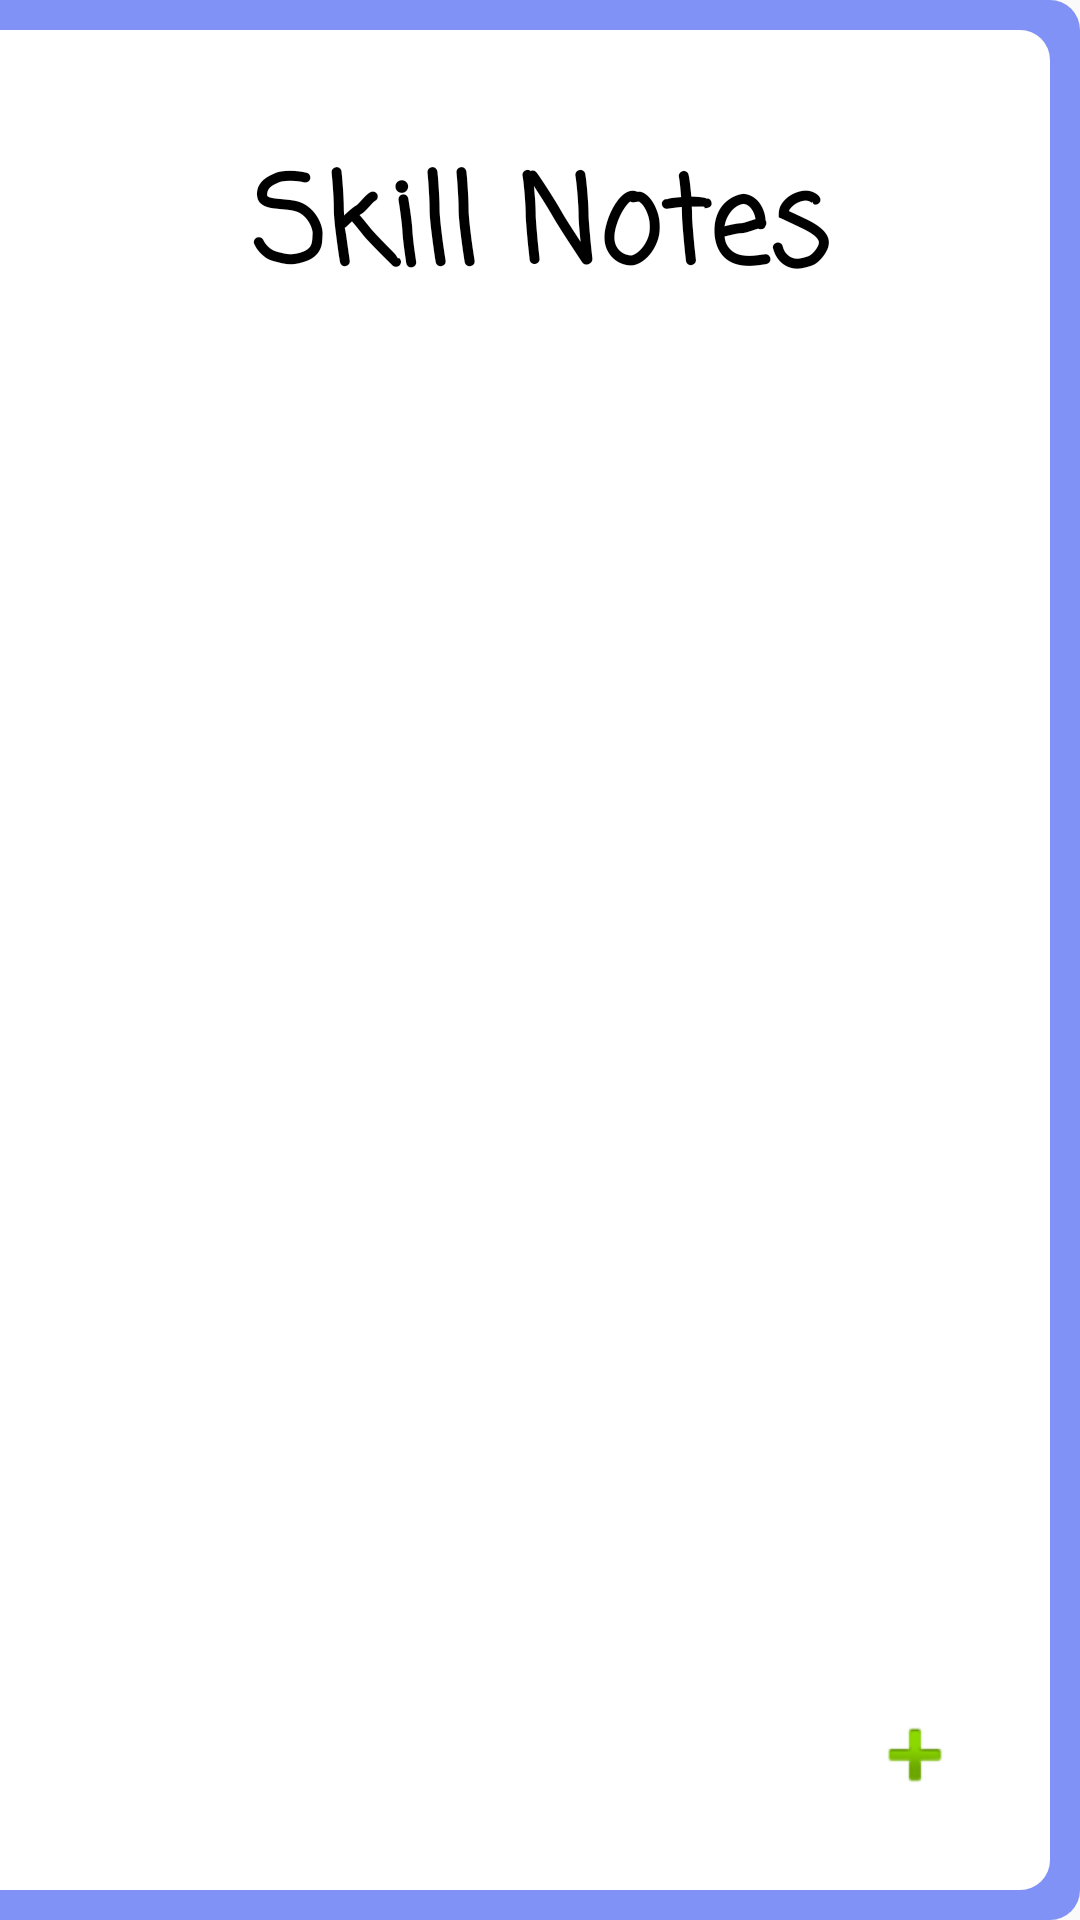

Icons on this 1080x1920 Android screen, each with its box as {"x1": x1, "y1": y1, "x2": x2, "y2": y2}:
add: {"x1": 888, "y1": 1728, "x2": 942, "y2": 1782}
